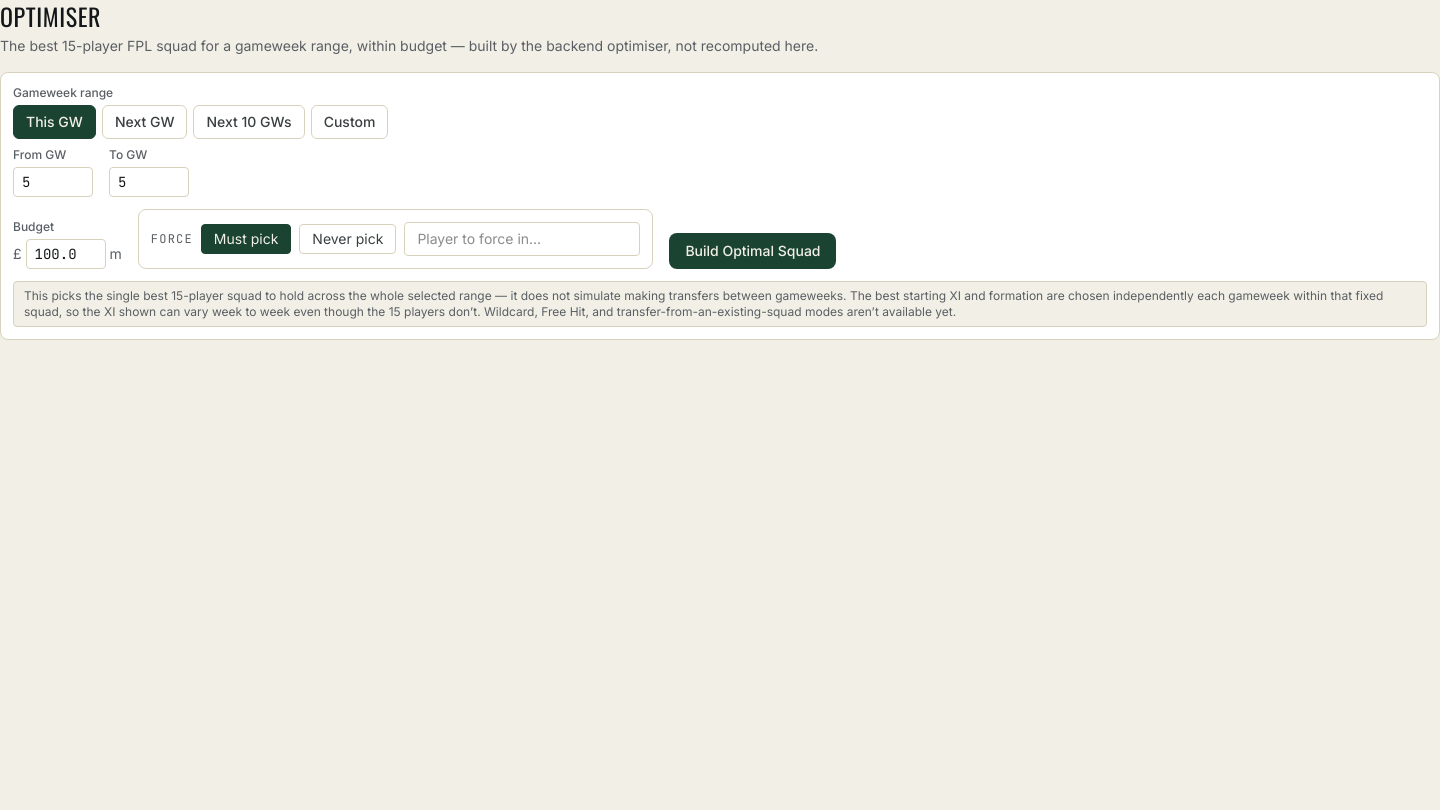
Test case: optimiser forced picks › confirms when the solver DOES obey
Type "haaland" into the search field with placeholder "Player to force in…".
click(522, 239); type("haaland")  # box x1=404 y1=222 x2=640 y2=256
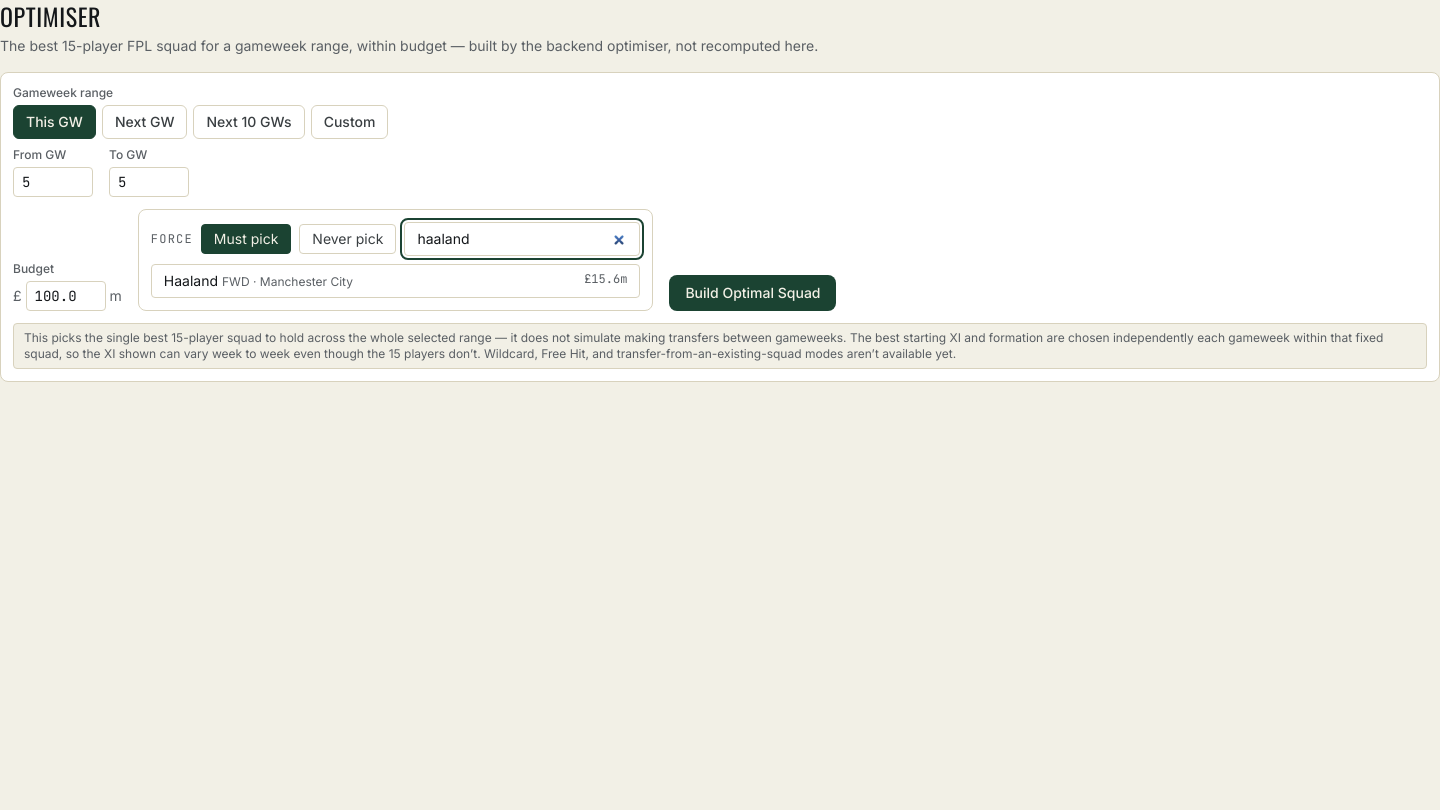
Check: the button "Haaland FWD · Manchester City £15.6m" is shown
Click the button "Haaland FWD · Manchester City £15.6m".
click(191, 280)  # box x1=152 y1=265 x2=639 y2=297
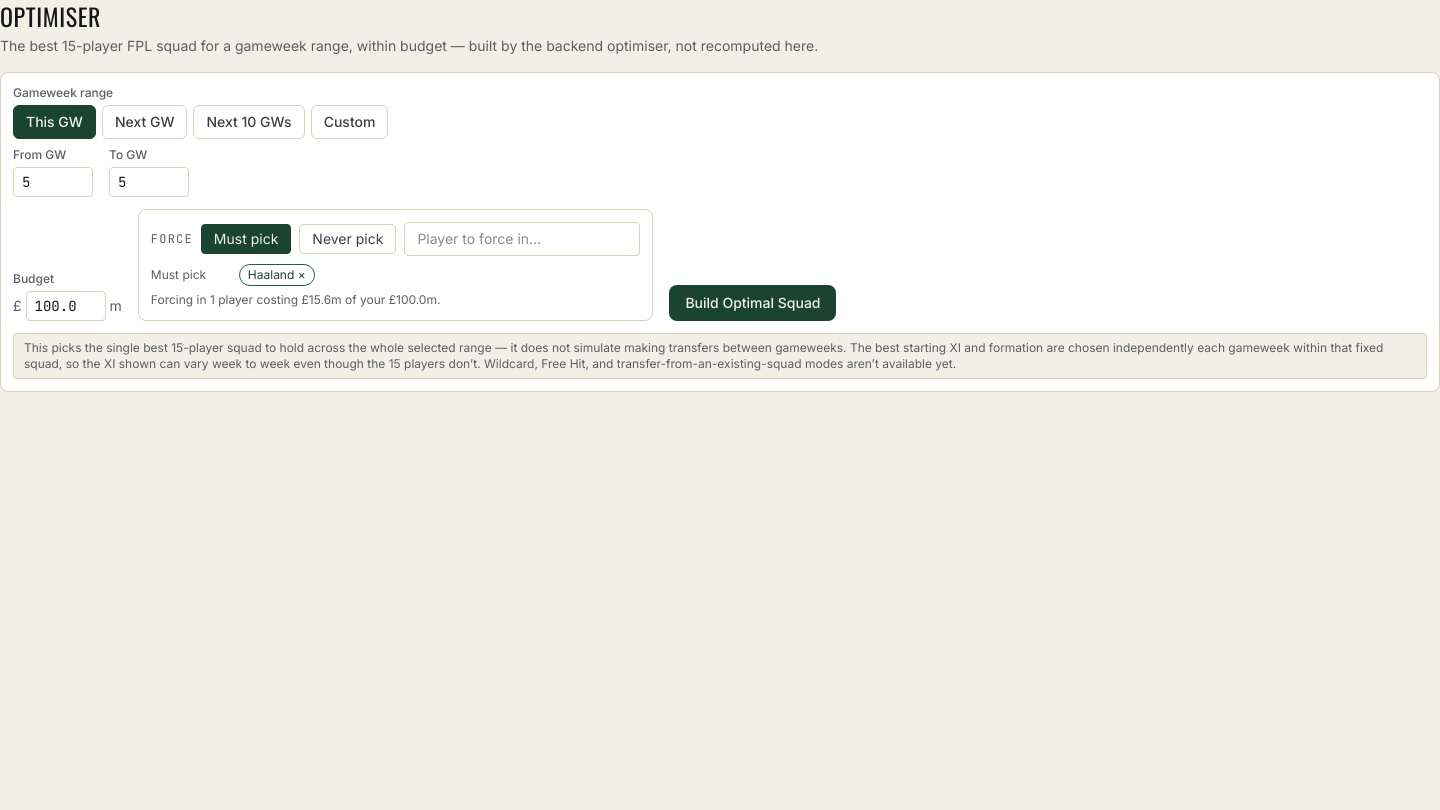
Click the button "Build Optimal Squad".
click(753, 303)  # box x1=669 y1=285 x2=836 y2=321
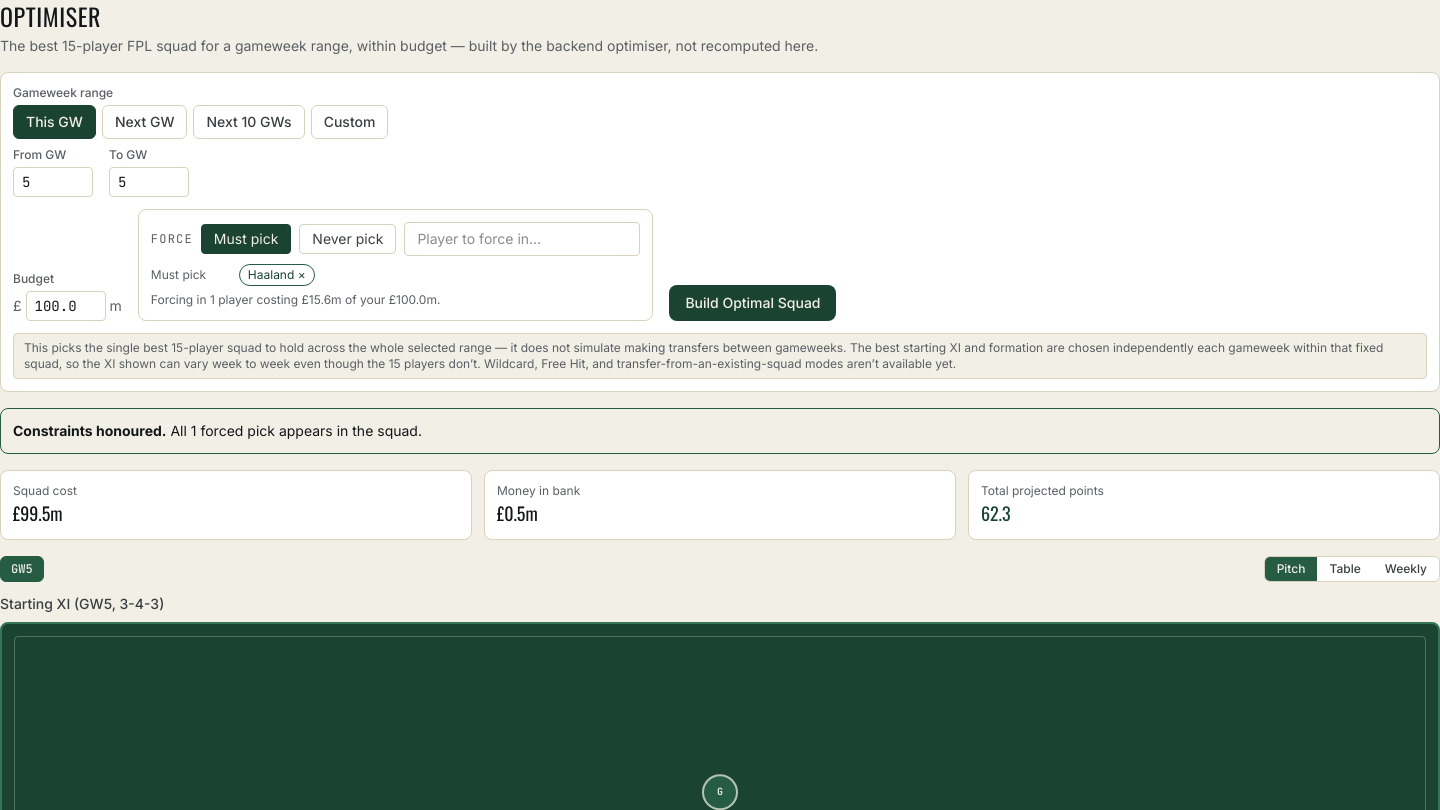
Check: the text "Constraints honoured." is shown, box x1=13 y1=422 x2=166 y2=439
